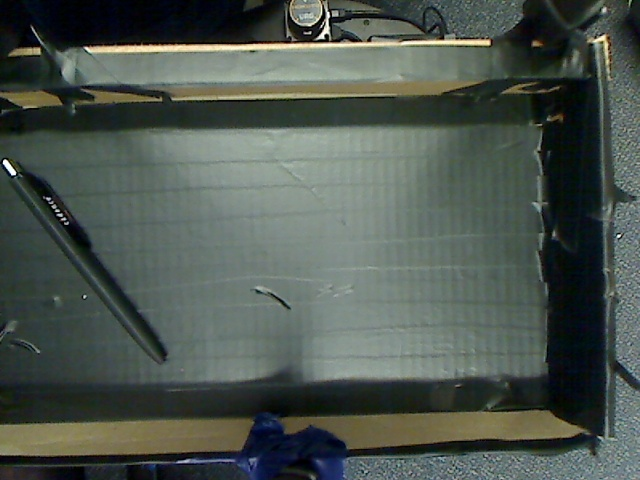pen: (1, 145, 181, 376)
